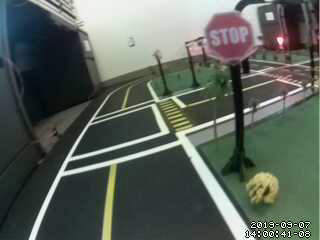Stop_Sign: (199, 11, 260, 64)
